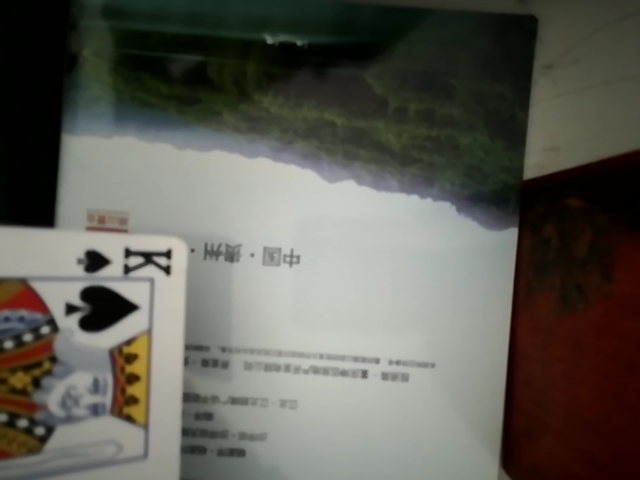ht k: (0, 202, 202, 474)
